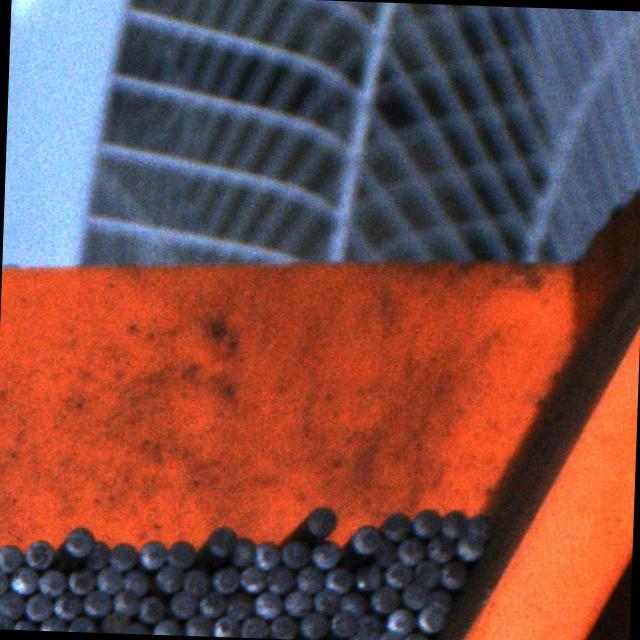tool: (22, 538, 54, 568), (136, 540, 166, 570), (64, 526, 94, 556), (208, 525, 238, 555), (308, 506, 338, 536), (382, 512, 412, 541), (411, 508, 440, 538), (310, 540, 340, 569), (109, 542, 138, 571), (279, 539, 308, 568), (350, 522, 379, 551), (166, 538, 194, 568), (52, 592, 82, 620), (440, 509, 468, 538), (230, 536, 257, 566), (282, 588, 312, 615), (396, 538, 424, 566), (299, 612, 327, 640), (10, 565, 38, 593), (182, 568, 210, 596), (386, 606, 414, 634), (38, 568, 66, 596), (296, 564, 324, 592), (240, 564, 268, 592), (23, 592, 51, 620), (254, 590, 282, 618), (439, 560, 467, 588), (426, 534, 454, 562), (155, 564, 183, 592), (212, 566, 240, 594), (168, 590, 196, 618), (138, 594, 166, 622), (82, 590, 111, 617), (254, 538, 280, 568), (81, 540, 107, 570), (122, 567, 150, 594), (414, 559, 441, 587), (95, 564, 122, 592), (454, 532, 482, 559), (225, 590, 252, 618), (112, 590, 140, 617), (266, 614, 295, 640), (371, 586, 398, 613), (330, 609, 357, 636), (266, 564, 292, 592), (68, 568, 96, 594), (382, 560, 410, 586), (324, 566, 352, 592), (197, 590, 225, 616), (352, 563, 380, 589), (468, 512, 494, 540), (314, 587, 340, 614), (339, 590, 366, 616), (401, 581, 426, 609), (0, 542, 24, 571), (418, 605, 444, 631), (354, 614, 380, 640), (241, 614, 269, 638), (426, 588, 454, 612), (184, 614, 213, 636), (212, 616, 240, 638), (100, 612, 128, 634), (371, 540, 393, 568), (0, 590, 22, 617), (152, 618, 180, 636), (39, 616, 68, 632), (68, 616, 96, 632), (126, 620, 150, 634), (10, 618, 36, 630), (376, 629, 402, 640), (402, 631, 430, 640), (0, 567, 7, 596), (0, 613, 12, 629), (343, 633, 368, 640)
